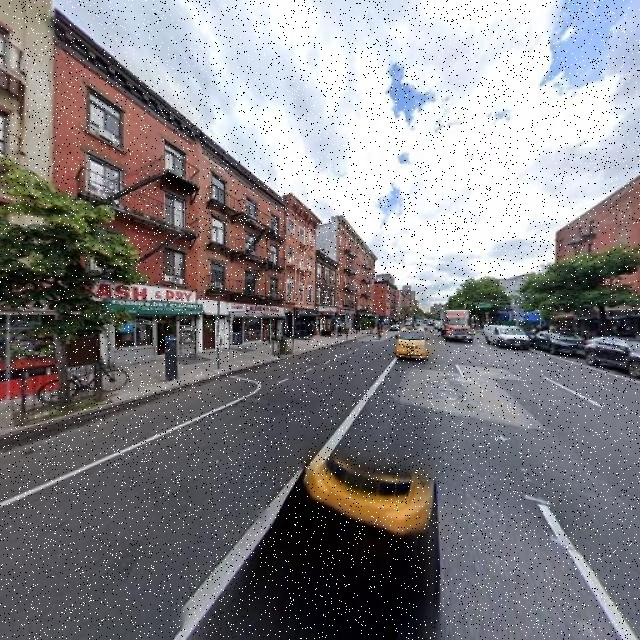Building: (58, 14, 197, 373), (1, 1, 52, 380), (201, 132, 284, 353), (287, 193, 313, 339), (315, 250, 340, 334)
